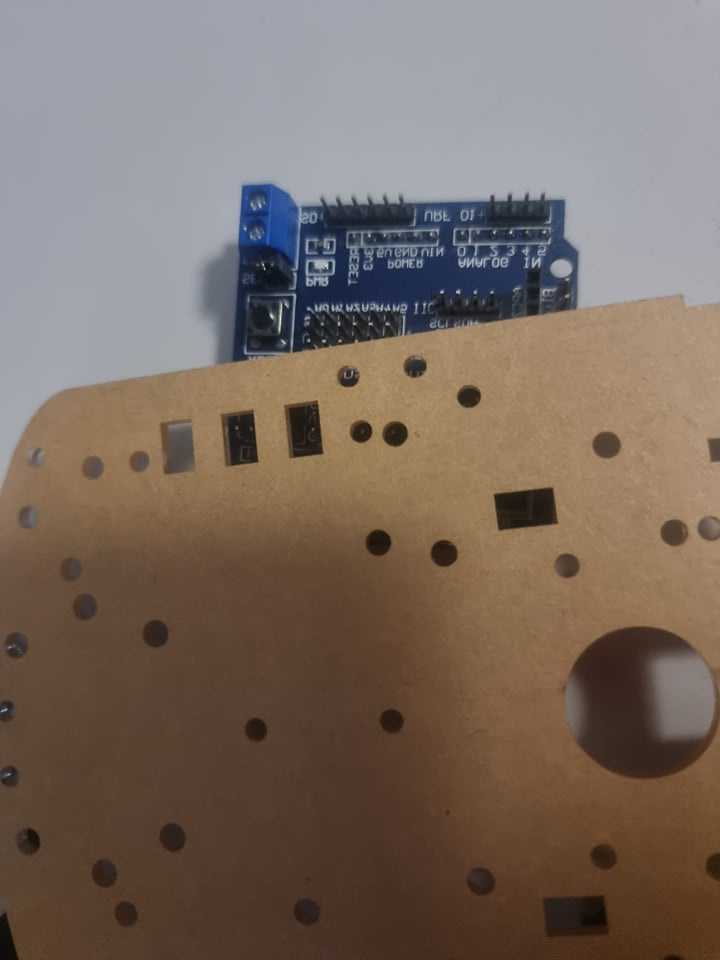5V EXPANSION: (223, 180, 592, 362)
